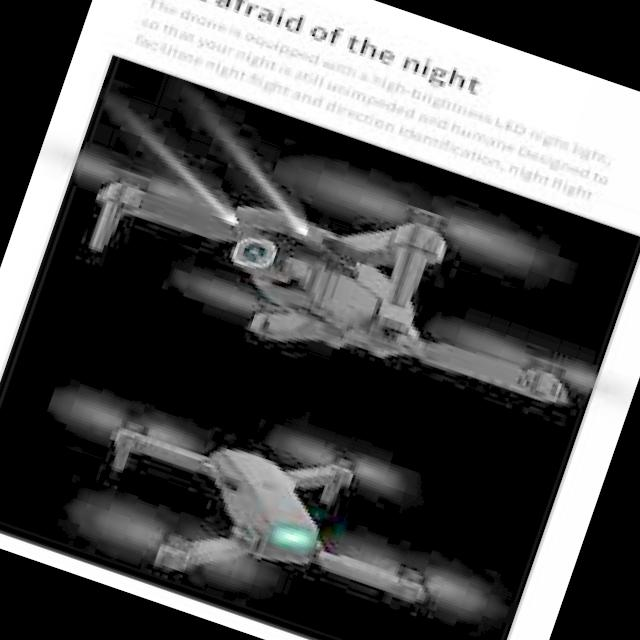drone: (30, 50, 640, 468), (7, 342, 520, 640)
